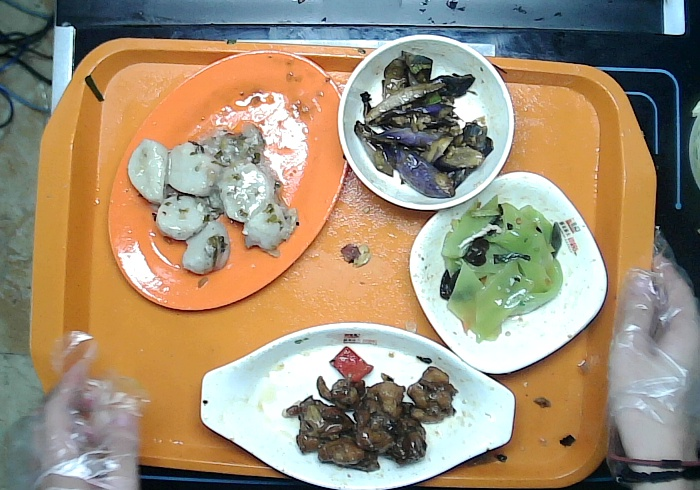NLDX-Bai_Se_Xiao_Fang_Die: (410, 170, 609, 374)
NLDX-Fan_Wan: (339, 35, 514, 209)
NLDX-Ju_Se_Pan: (110, 49, 350, 309)
NLDX-Yu_Pan: (201, 322, 516, 488)
